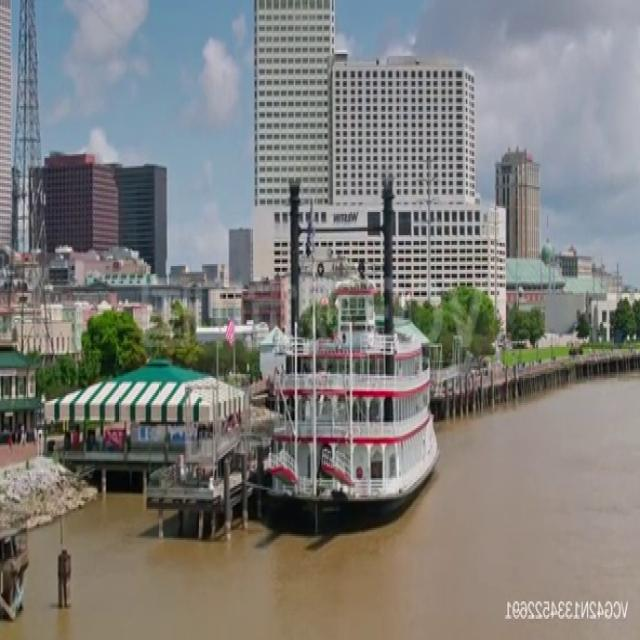passenger ship: (253, 277, 435, 523)
